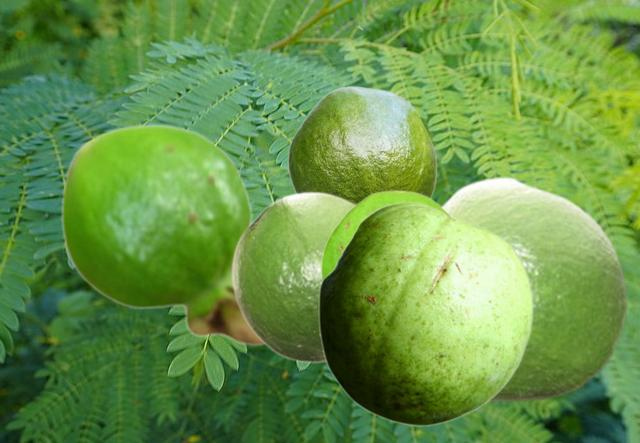guava: (318, 202, 532, 425), (60, 123, 264, 346), (441, 175, 628, 403), (230, 190, 355, 364), (287, 86, 436, 202), (320, 189, 452, 281)
